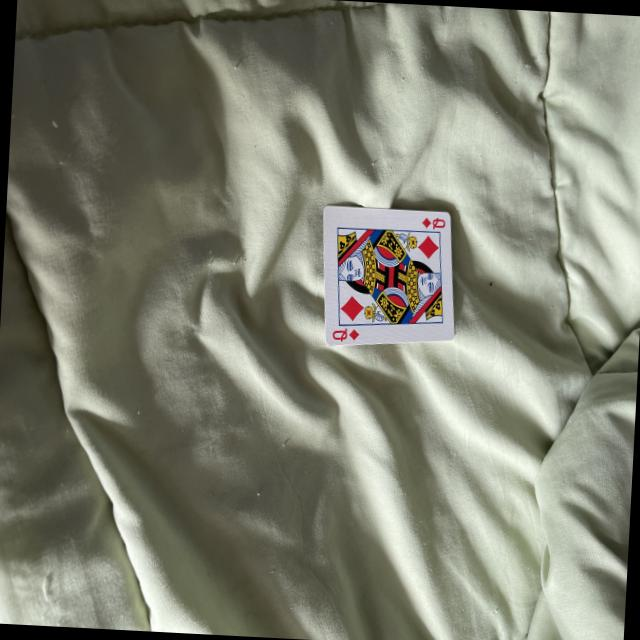Queen of diamonds: (321, 205, 452, 347)
